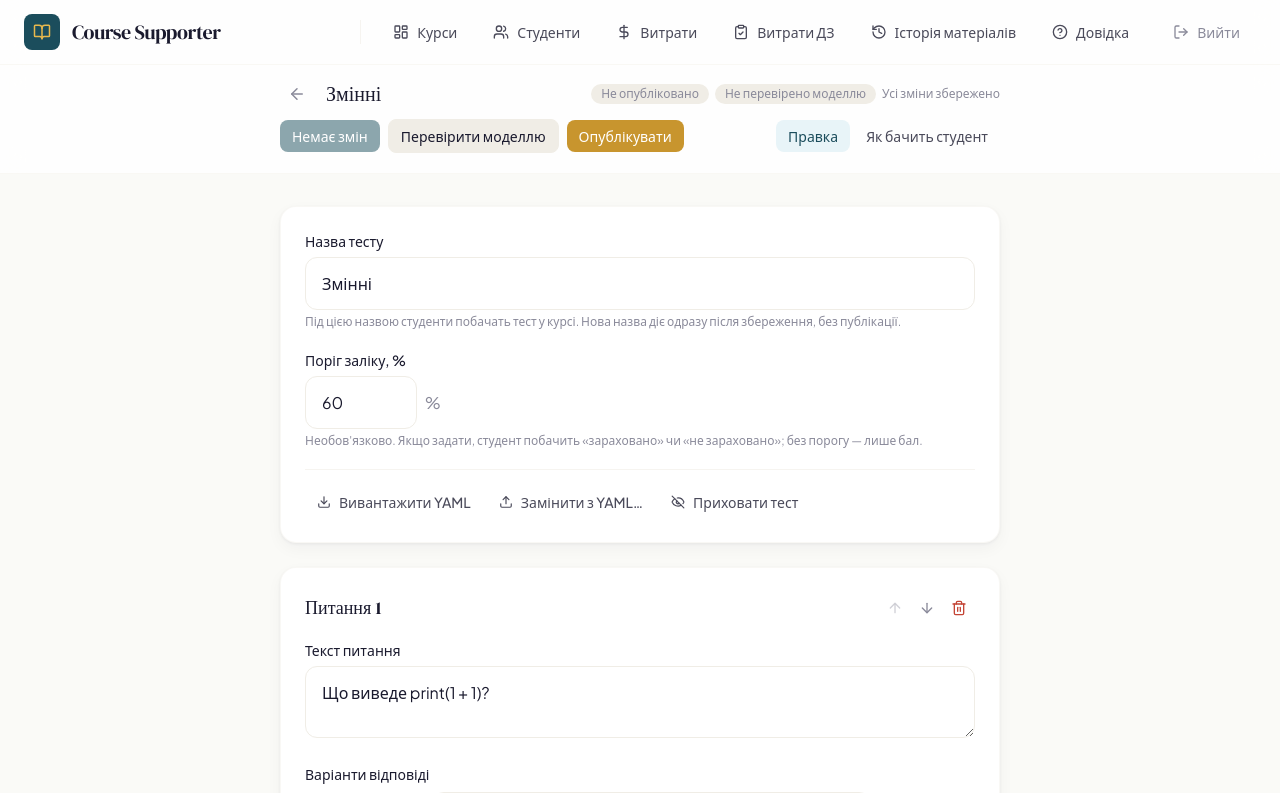
TestEditorPage › orders a check, then shows the model's explanations and doubts by their questions
What coordinates should you click on to do the following:
click the button "Перевірити моделлю"
I would click on:
 (473, 136)
Its box is [388, 119, 559, 153].
(page scrolled)
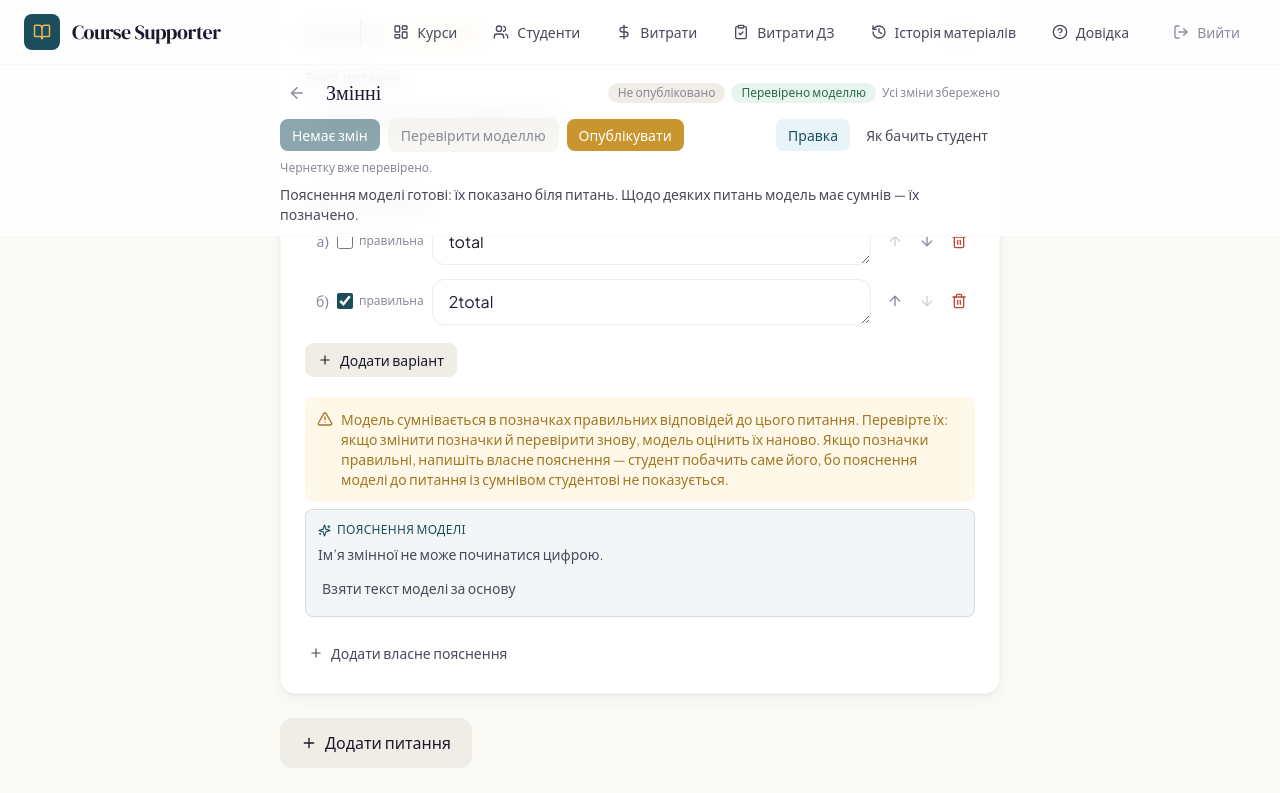
expect the text "Перевірено моделлю" is shown: met, box [731, 83, 876, 103]
expect the text "Ім’я змінної не може починатися цифрою." is shown: met, box [318, 545, 604, 563]
